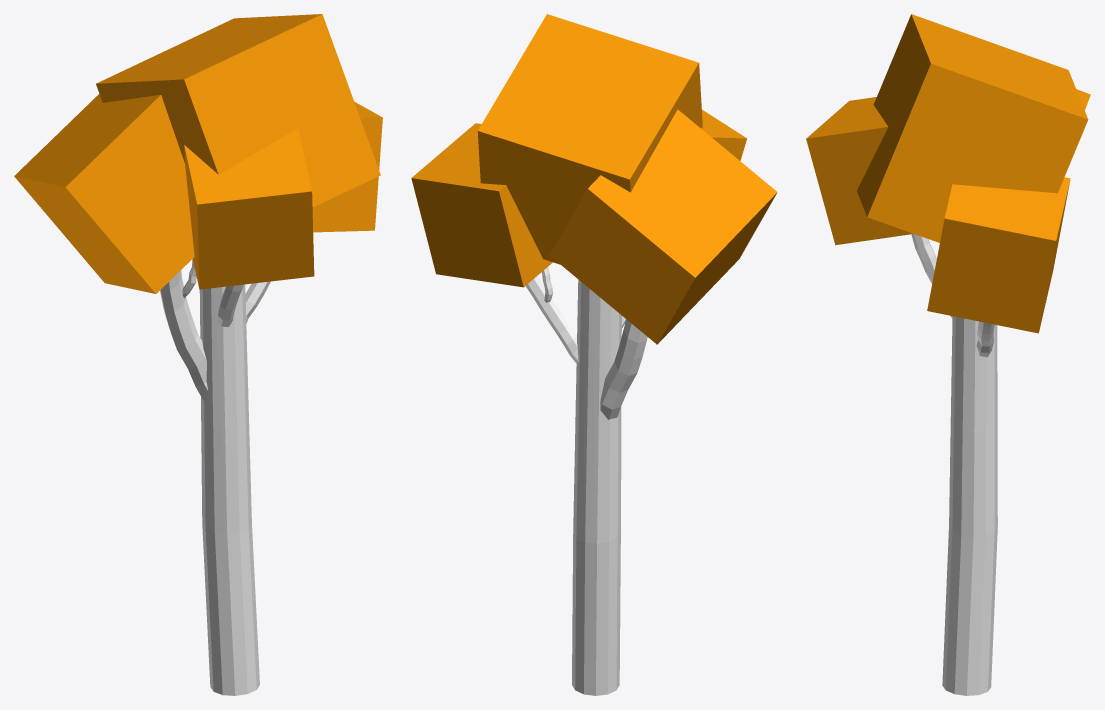
The model's file is simple-tree.glb.
3 renders of one model, left to right at view 1: azimuth 30°, elevation 25°; view 2: azimuth 150°, elevation 25°; view 3: azimuth 270°, elevation 25°, orthographic. The views are drawn at different scales.
Visible parts, largest first — view 1: group360118661; view 2: group360118661; view 3: group360118661.
Boxes of the visible parts, x1,y1,x2,y2 form: group360118661: [14, 14, 382, 695]; group360118661: [411, 14, 777, 695]; group360118661: [806, 14, 1090, 695].
Size of the model in its own units: 1.36 by 2.67 by 1.05.
